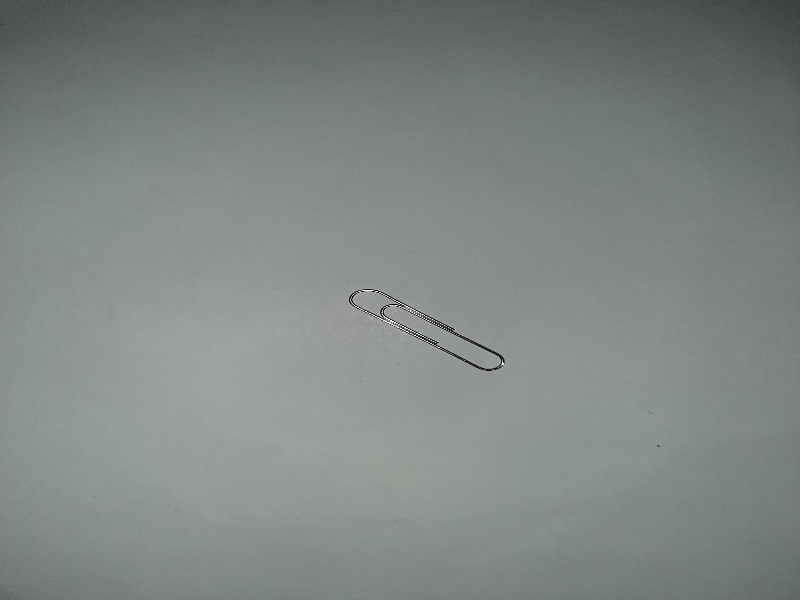Big Jumpclip: (338, 282, 511, 381)
